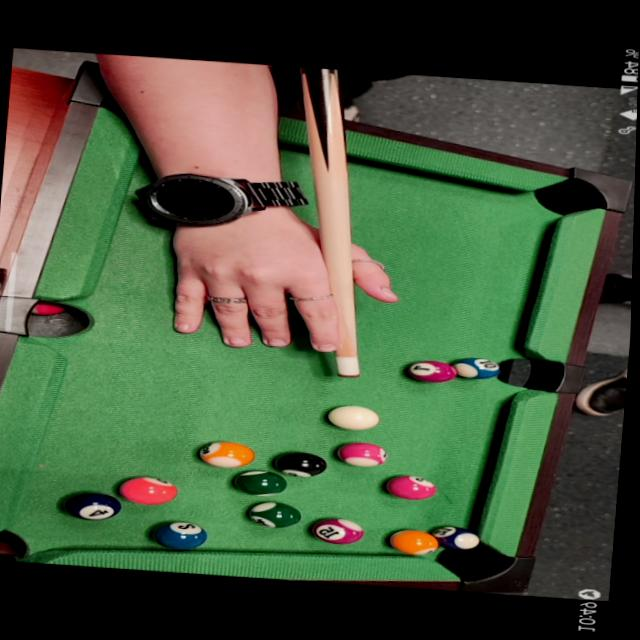cue ball: (321, 401, 379, 435)
other: (114, 474, 182, 508), (57, 489, 122, 524), (194, 439, 260, 472), (227, 468, 293, 500), (149, 519, 210, 553), (270, 448, 332, 480), (379, 526, 439, 558), (246, 500, 304, 532), (424, 522, 482, 553), (308, 516, 364, 548), (400, 356, 458, 386), (334, 440, 392, 470), (380, 472, 436, 502), (447, 353, 501, 383)
